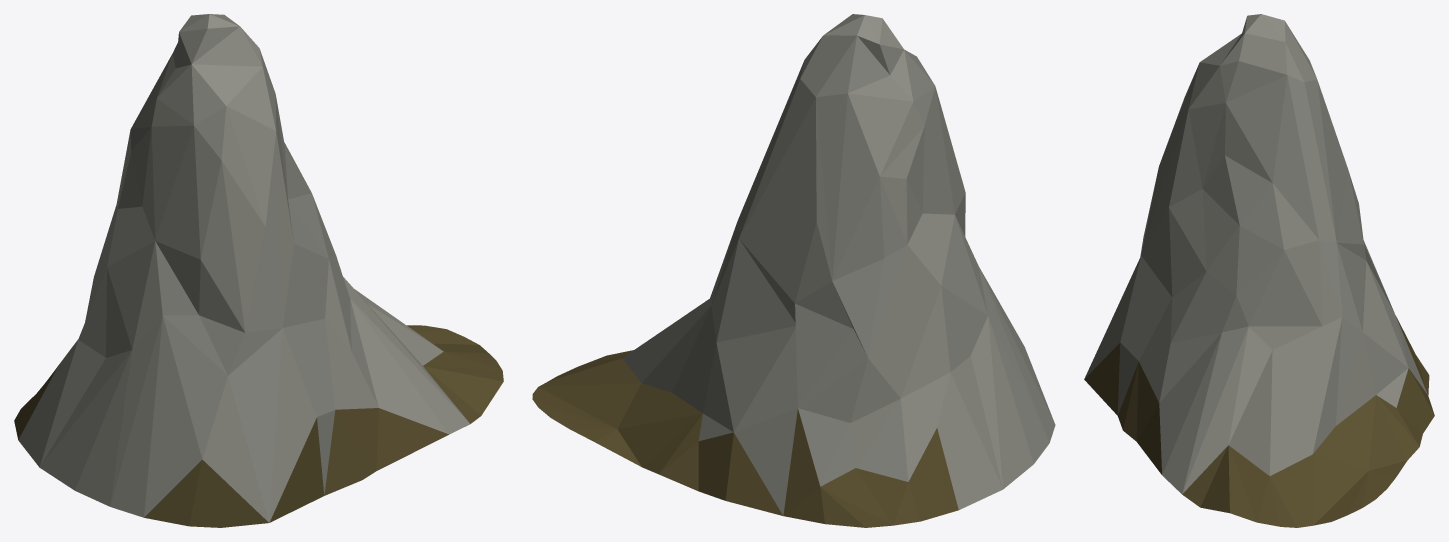
Rendered from Mountain.glb.
3 renders of one model, left to right at view 1: azimuth 30°, elevation 25°; view 2: azimuth 150°, elevation 25°; view 3: azimuth 270°, elevation 25°, orthographic. The views are drawn at different scales.
Parts seen in each view (by area): view 1: Mountain; view 2: Mountain; view 3: Mountain.
Part boxes in pixels (x1=…): Mountain: x1=14, y1=14, x2=503, y2=527; Mountain: x1=532, y1=14, x2=1055, y2=527; Mountain: x1=1084, y1=14, x2=1434, y2=527.
Size of the model in its own units: 3.36 by 3.08 by 2.51.
